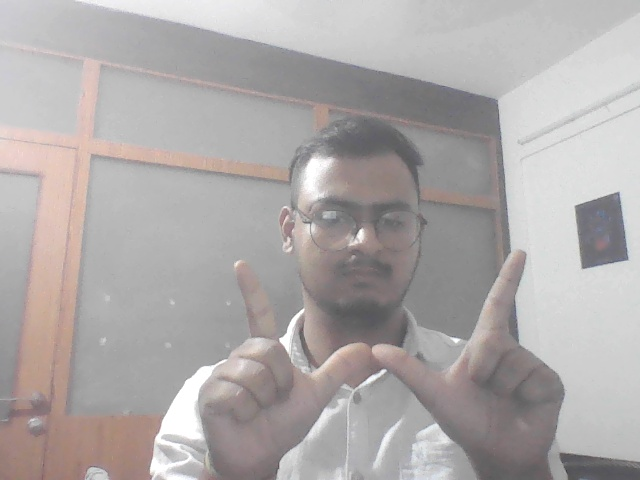Whatever: (192, 249, 580, 474)
